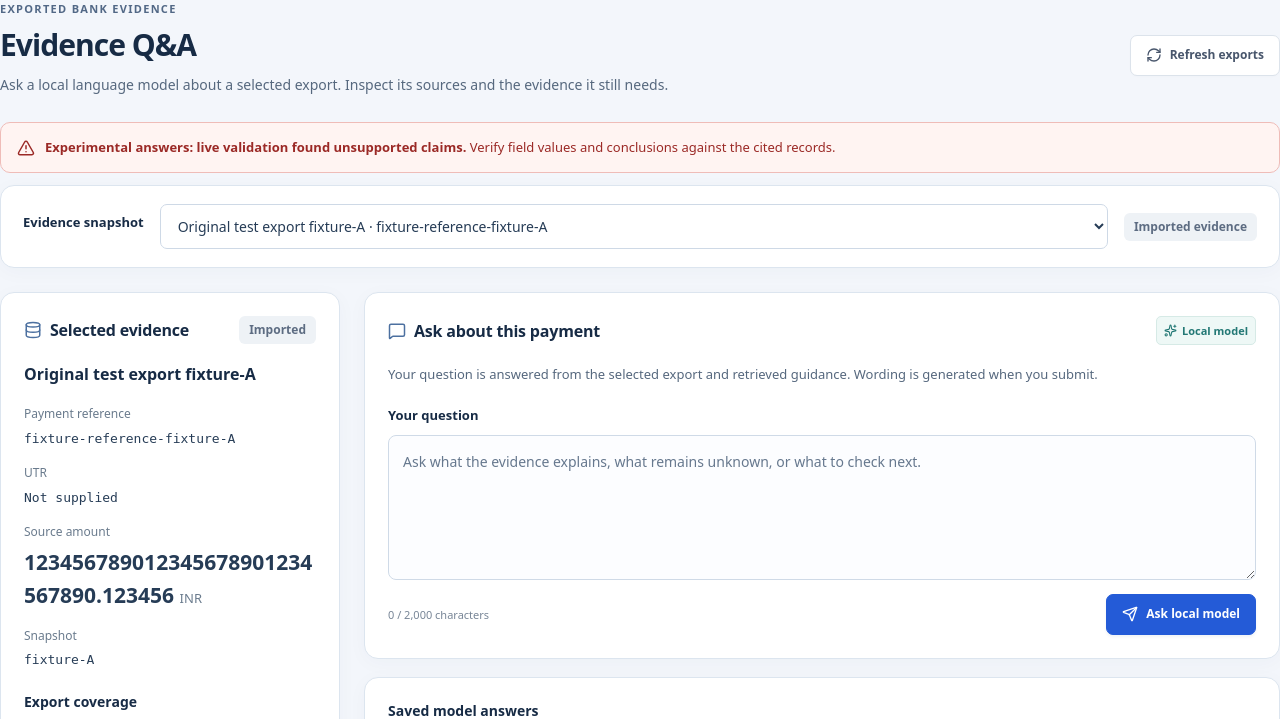
Scenario: UAT evidence model questions › sends arbitrary questions with the selected hash and CSRF, renders returned wording, and expands the exact citation
Expected: the element named "Experimental answer warning" shows "Experimental answers: live validation found unsupported claims. Verify field values and conclusions against the cited records.", [0,122,1279,173]
Expected: the text "123456789012345678901234567890.123456" is shown, [24,548,312,609]
Click the text box labelled "Your question".
click(822, 507)  # box [388,434,1256,580]
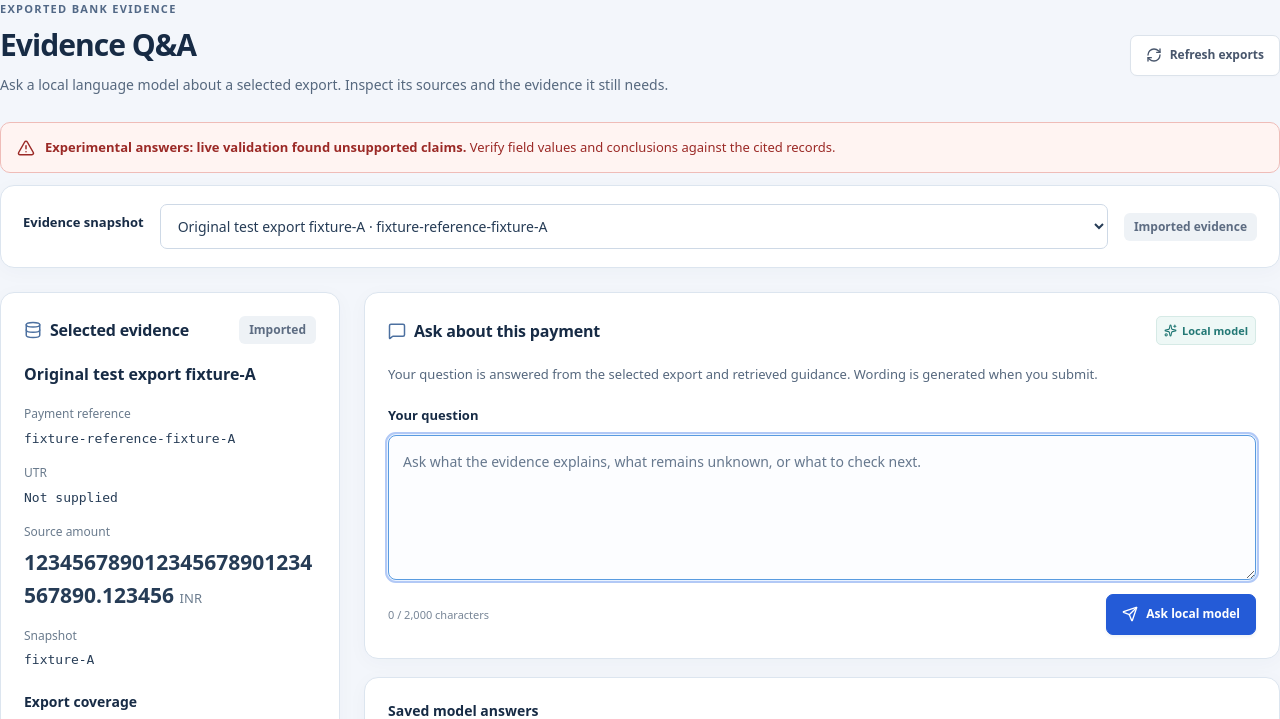
Type keys "Compare this exception with the available source and identify the missing fact."
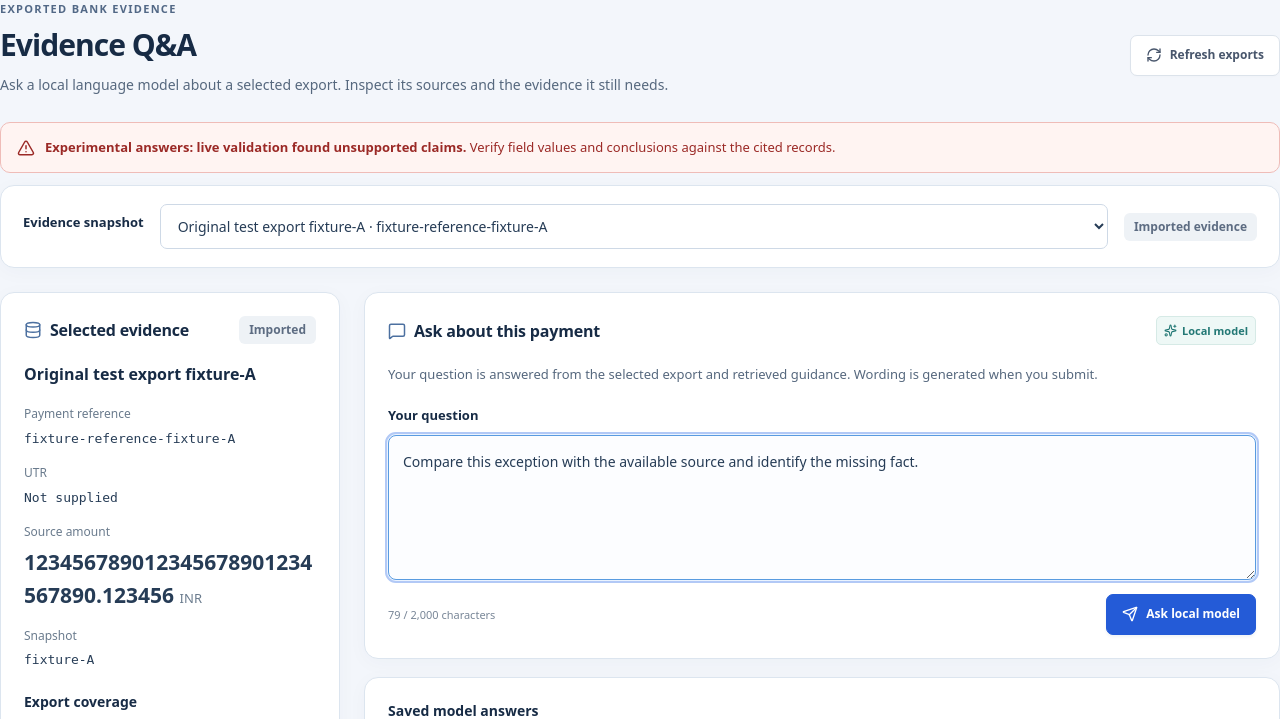
Click the button "Ask local model".
click(1181, 614)  # box [1106,594,1256,635]
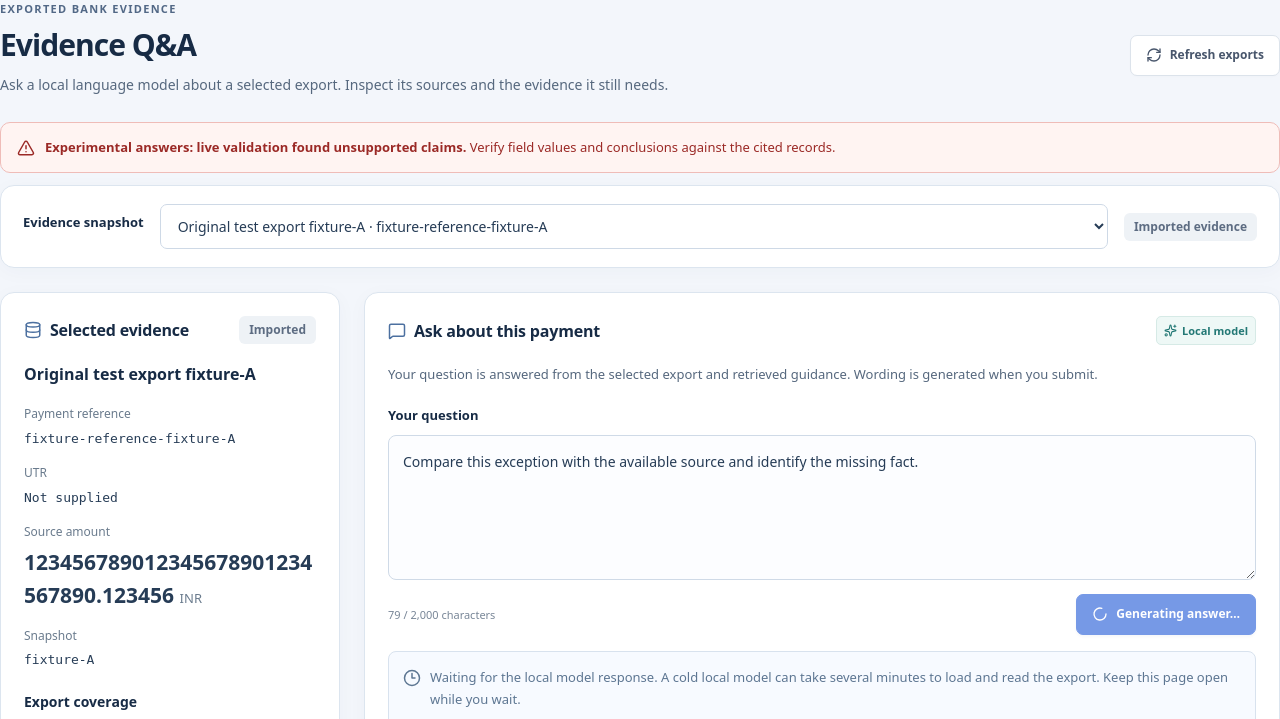
Expected: the element "Model-generated answer" is not shown
Now the button "Generating answer…" is disabled, box [1076,594,1256,635]
Submit the form labelled "Your question", box [388,405,1256,635]
(page scrolled)
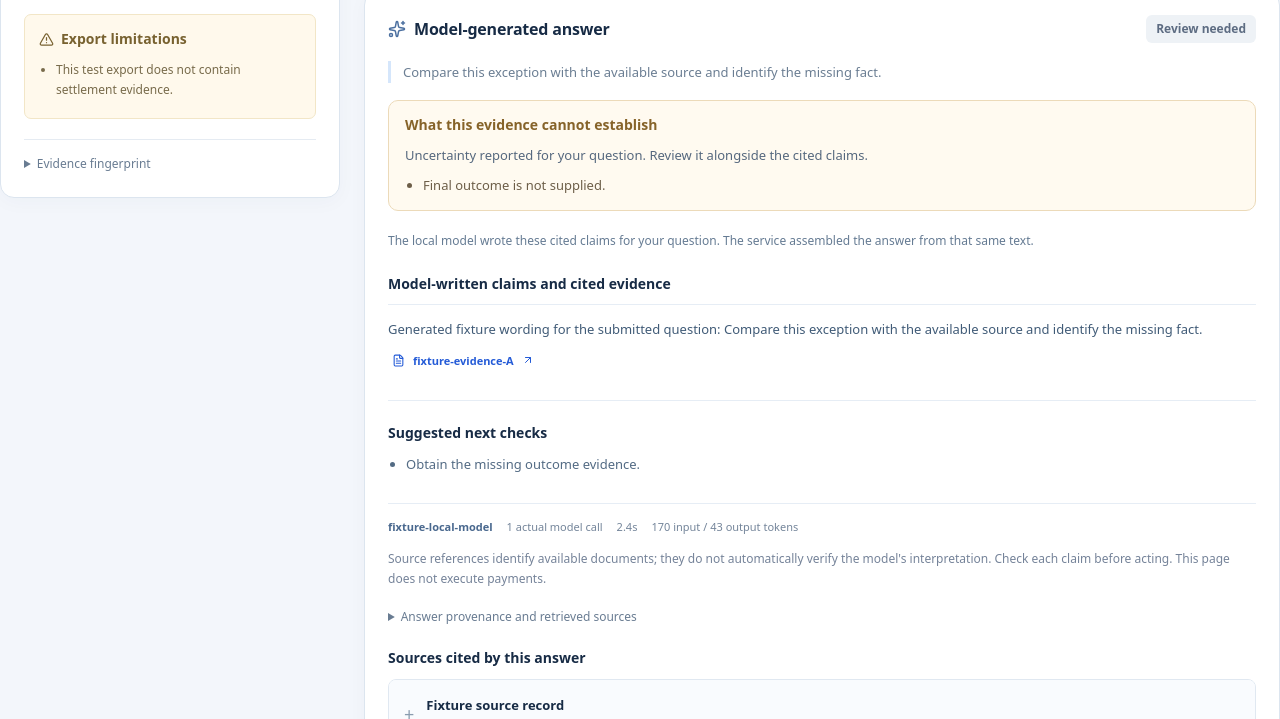
Now the text "1 actual model call" is shown, box [507,518,603,535]
Now the text "2.4s" is shown, box [617,518,637,535]
Now the element "What this evidence cannot establish" shows "Final outcome is not supplied.", box [423,176,605,194]
Click the button "fixture-evidence-A".
click(463, 360)  # box [388,348,538,373]
(page scrolled)
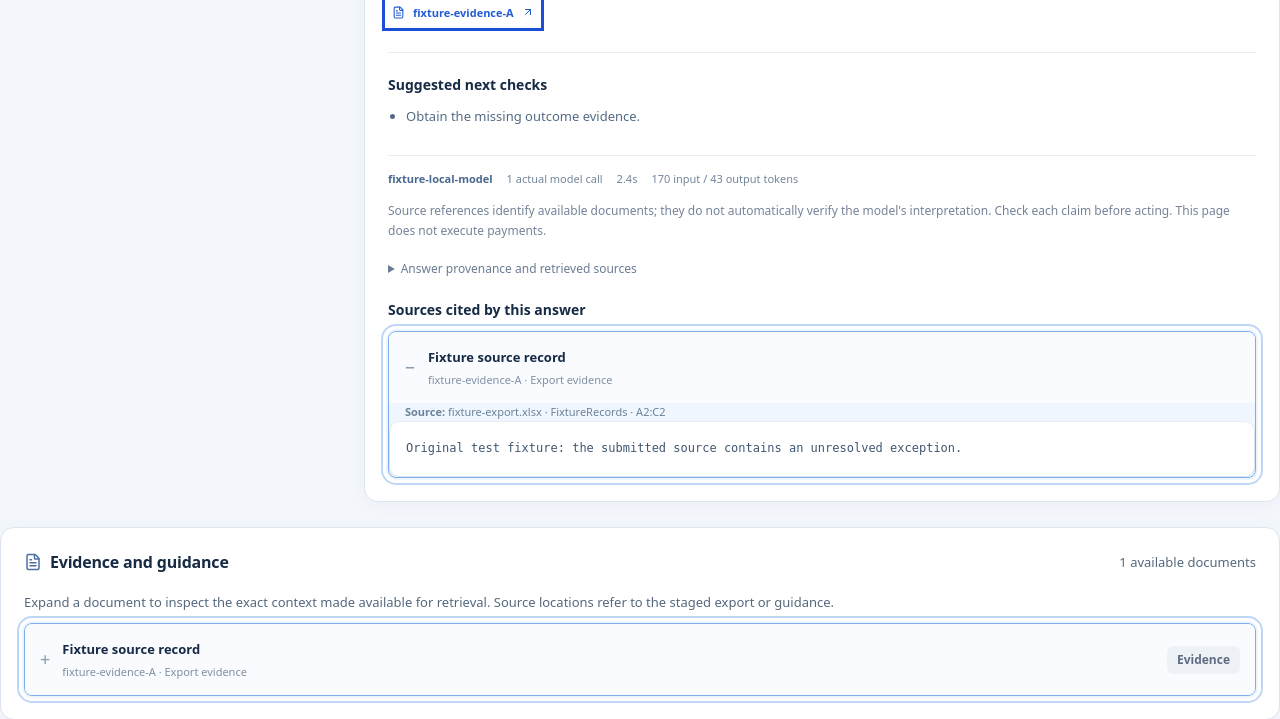
Now the text "Original test fixture: the submitted source contains an unresolved exception." is shown, box [389,421,1255,477]
Now the text "Source: fixture-export.xlsx · FixtureRecords · A2:C2" is shown, box [405,404,666,419]
